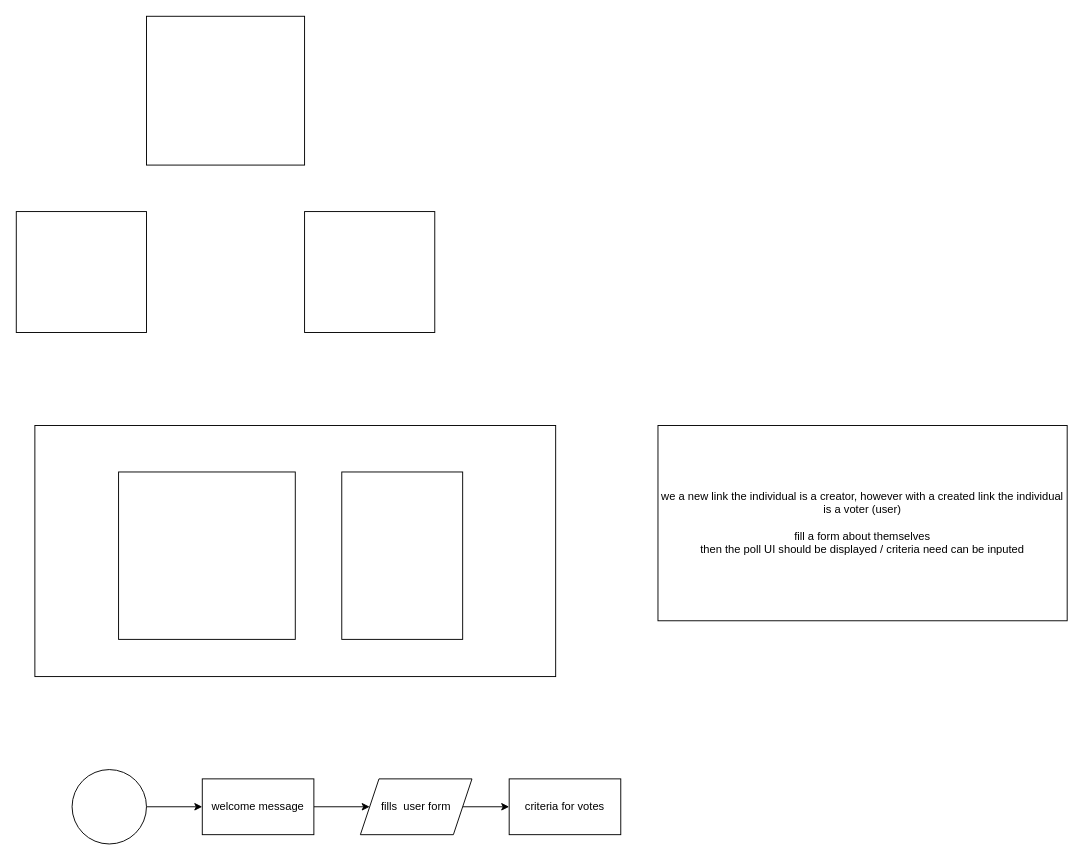
This 1083x860 diagram has some shape labels left out. The centre of each missing label's shape, as x and y in pixels:
"start" goes at point 108,806.
"welcome what criteria or parameters would you like to implement" goes at point 402,555.
